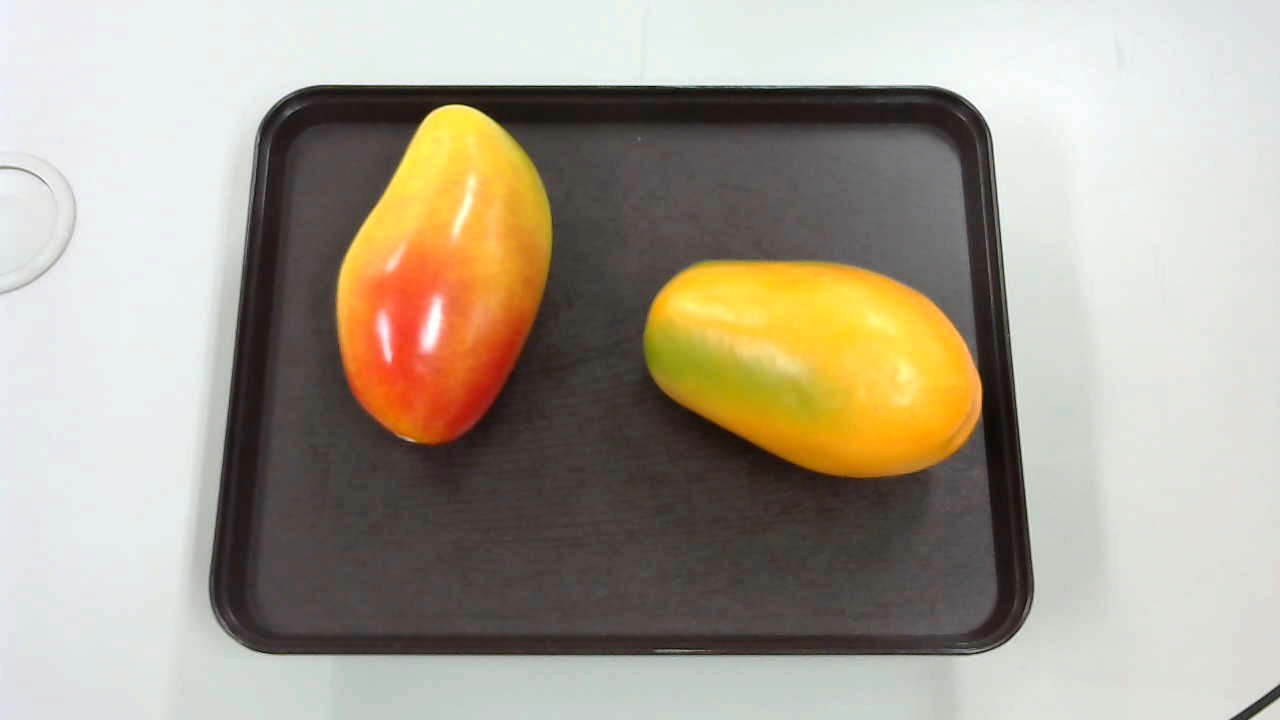papya: (638, 256, 995, 477)
red mango: (330, 102, 551, 446)
